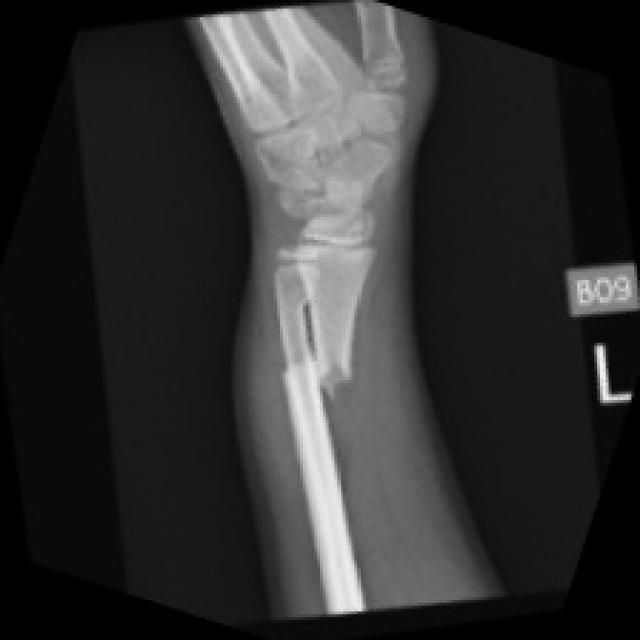fracture: (278, 348, 401, 418)
